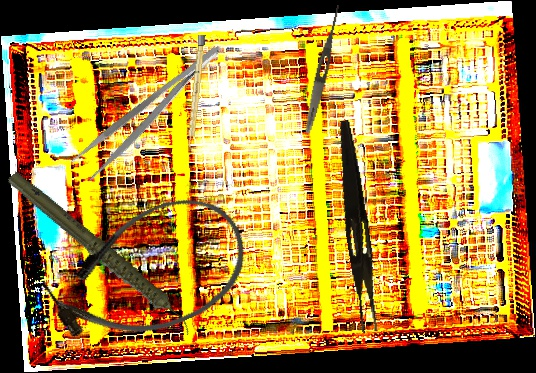Cannula: (31, 179, 265, 367)
Dressing Forceps: (68, 41, 234, 184), (328, 119, 386, 334), (301, 3, 344, 135)
Handpiece: (5, 141, 195, 369)
Scalpel Handle: (186, 34, 206, 151)
